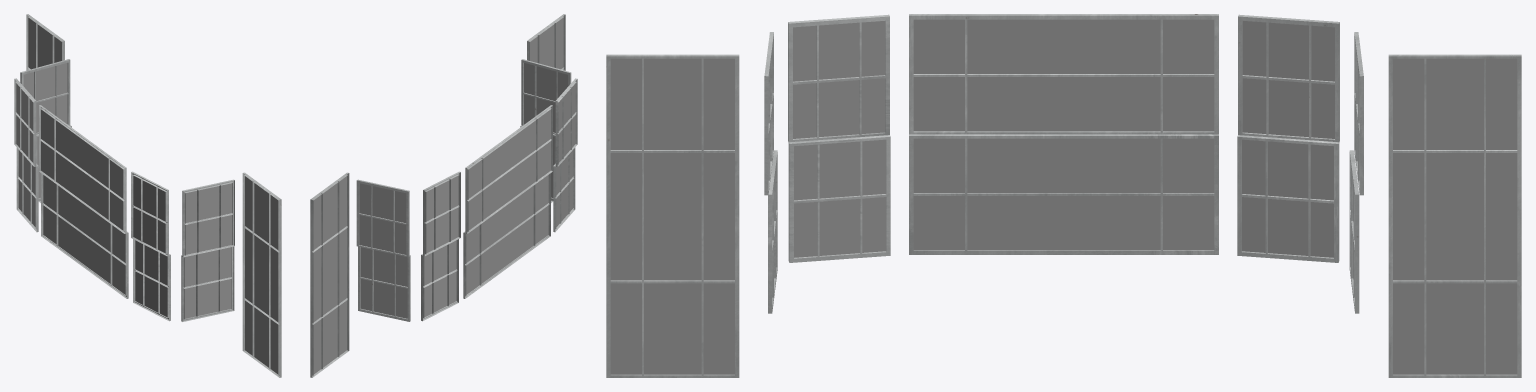
File: New Window Variation.fbx
The picture shows the model from 3 angles, left to right: view 1: azimuth 30°, elevation 25°; view 2: azimuth 150°, elevation 25°; view 3: azimuth 270°, elevation 25°; orthographic projection. The views are drawn at different scales.
Visible parts, largest first — view 1: windows_glass, windows_frames; view 2: windows_glass, windows_frames; view 3: windows_glass, windows_frames.
Part boxes in pixels (<box>): windows_glass: <box>16,17,278,374</box>; windows_frames: <box>14,14,281,377</box>; windows_glass: <box>313,17,575,374</box>; windows_frames: <box>310,14,577,377</box>; windows_glass: <box>610,19,1517,374</box>; windows_frames: <box>606,14,1521,377</box>.
Bounding box in the file's own units: 86.15 × 200 × 517.
